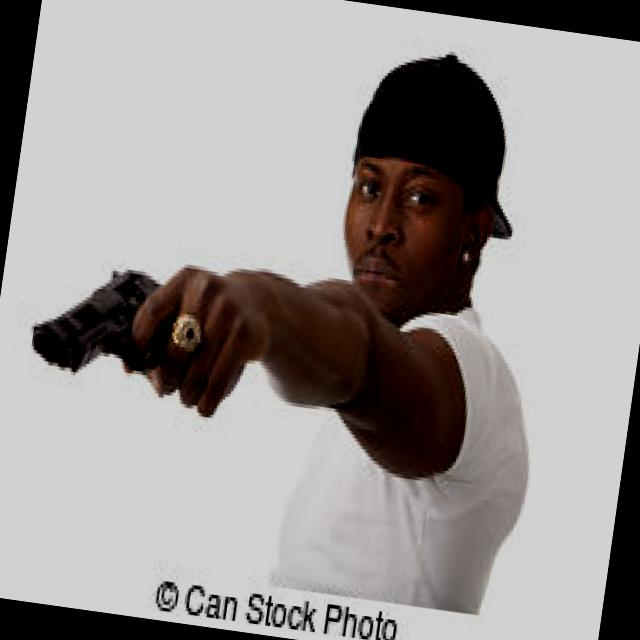handgun: (26, 254, 234, 396)
